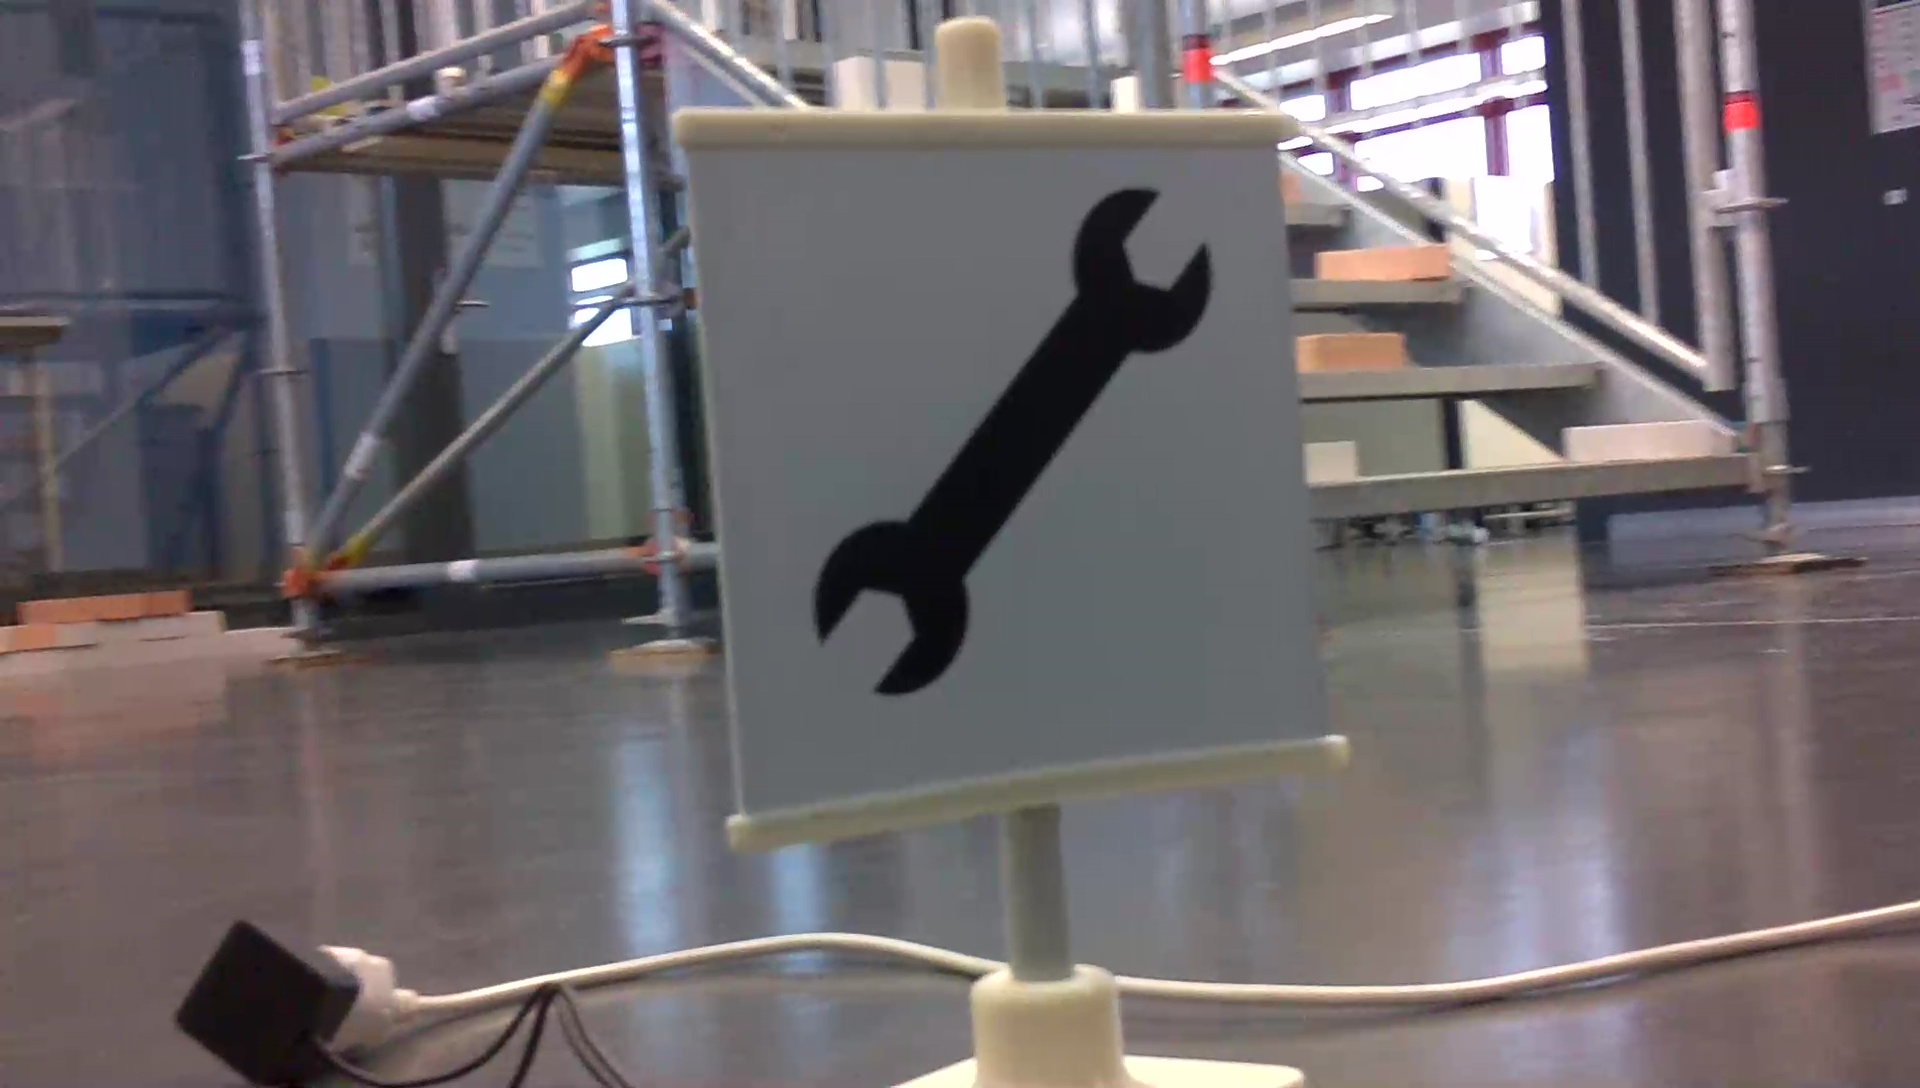brick: (1565, 421, 1708, 458), (1317, 243, 1451, 278), (1298, 334, 1399, 371), (1308, 444, 1353, 481)
edge: (1317, 458, 1745, 522), (1300, 360, 1604, 394), (1290, 280, 1481, 302)
wrench: (803, 179, 1222, 706)
